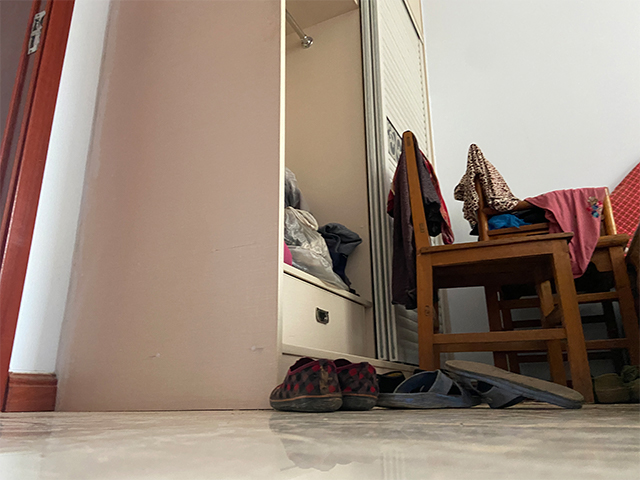cabinet: (284, 102, 442, 413)
slippers: (377, 359, 587, 412)
stool: (402, 129, 597, 407)
